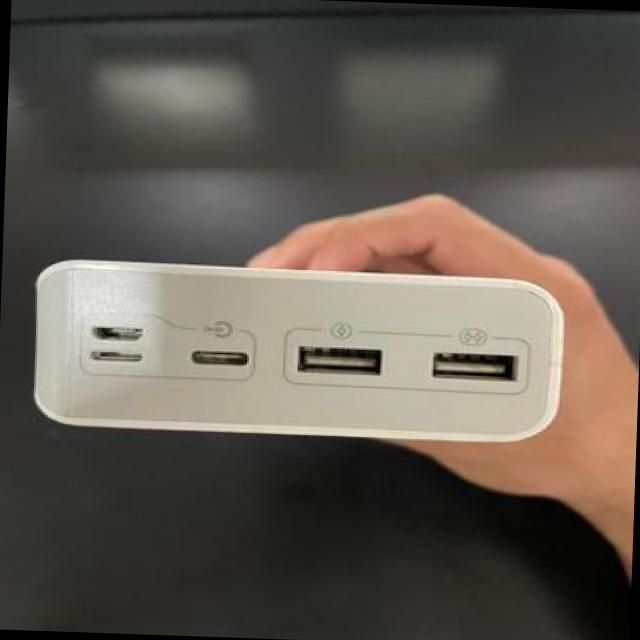portable-charger: (22, 250, 576, 450)
